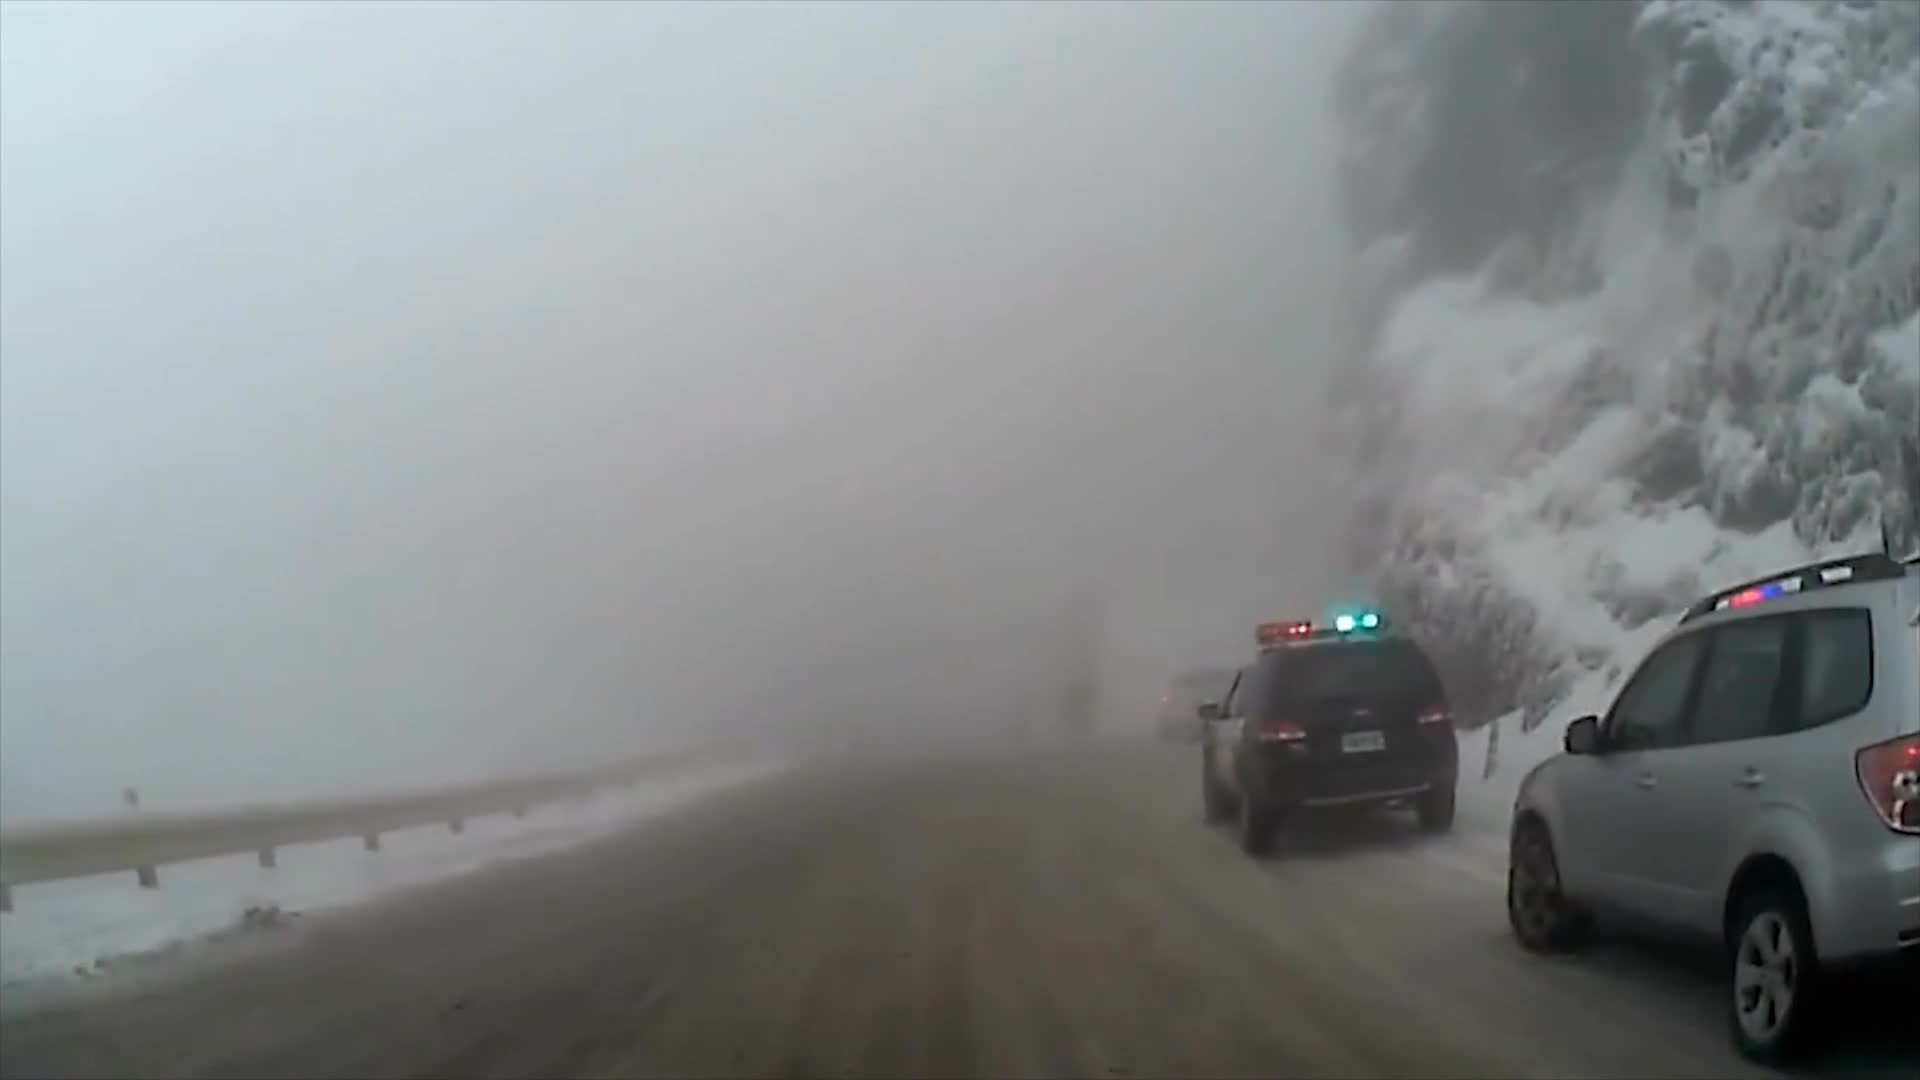vehicle: (1503, 538, 1920, 1069), (1192, 609, 1458, 857)
